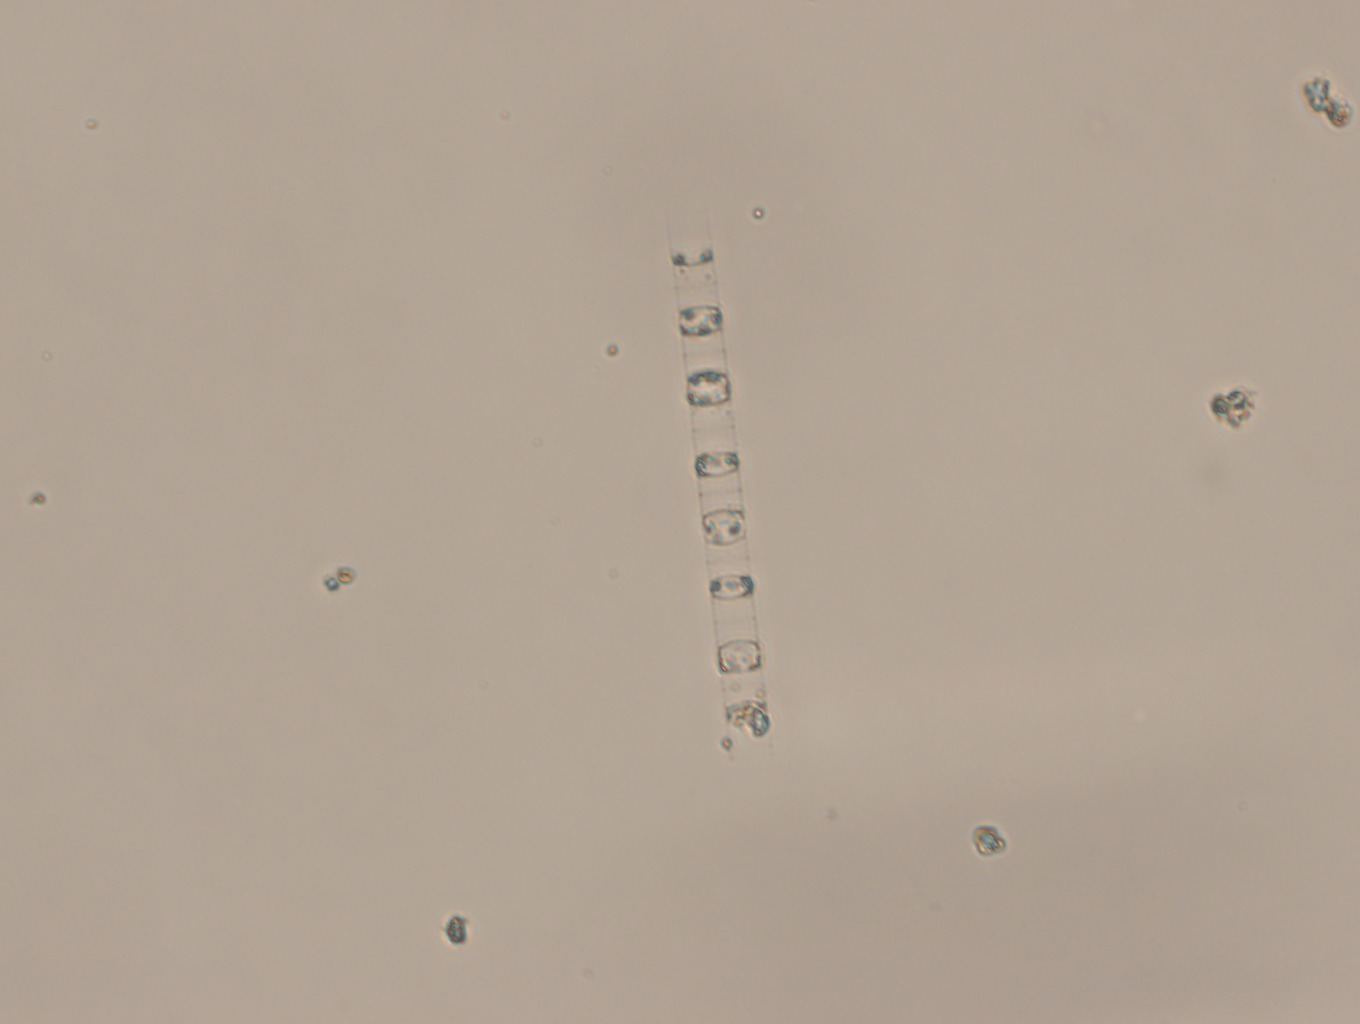skeletonema: (654, 214, 793, 755)
